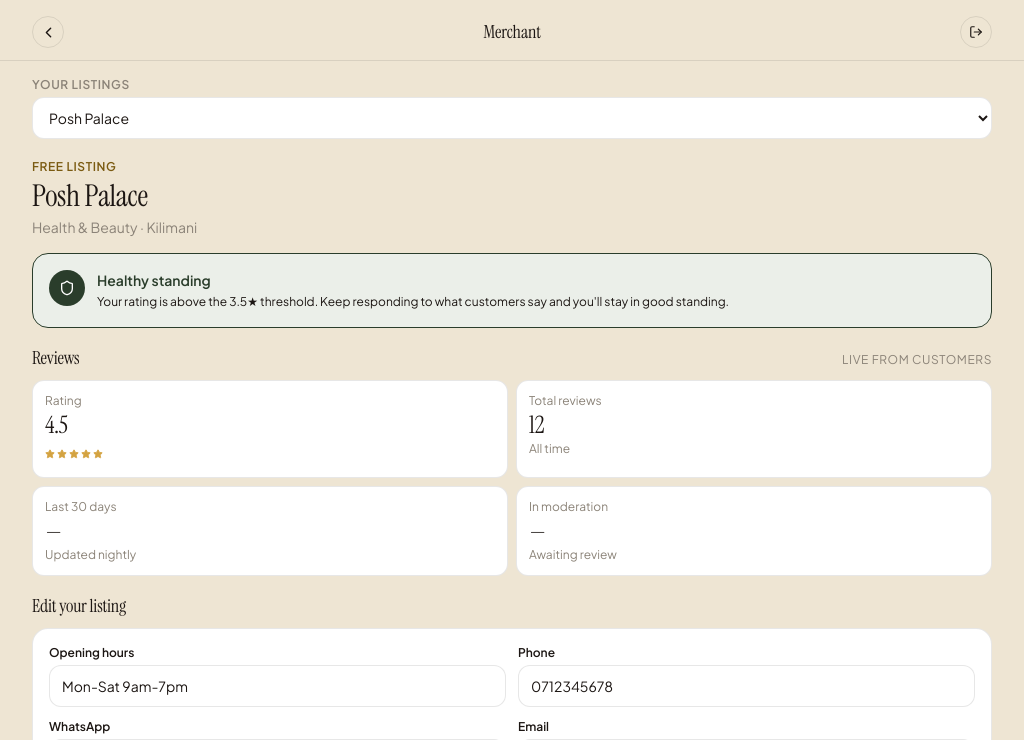
two active listings: switcher swaps the header
Expected: the heading "Posh Palace" is shown, top-left (32, 176), bottom-right (148, 215)
Select "Second Shop" in the dropdown labelled "Your listings": (512, 118) top-left (32, 97), bottom-right (992, 139)
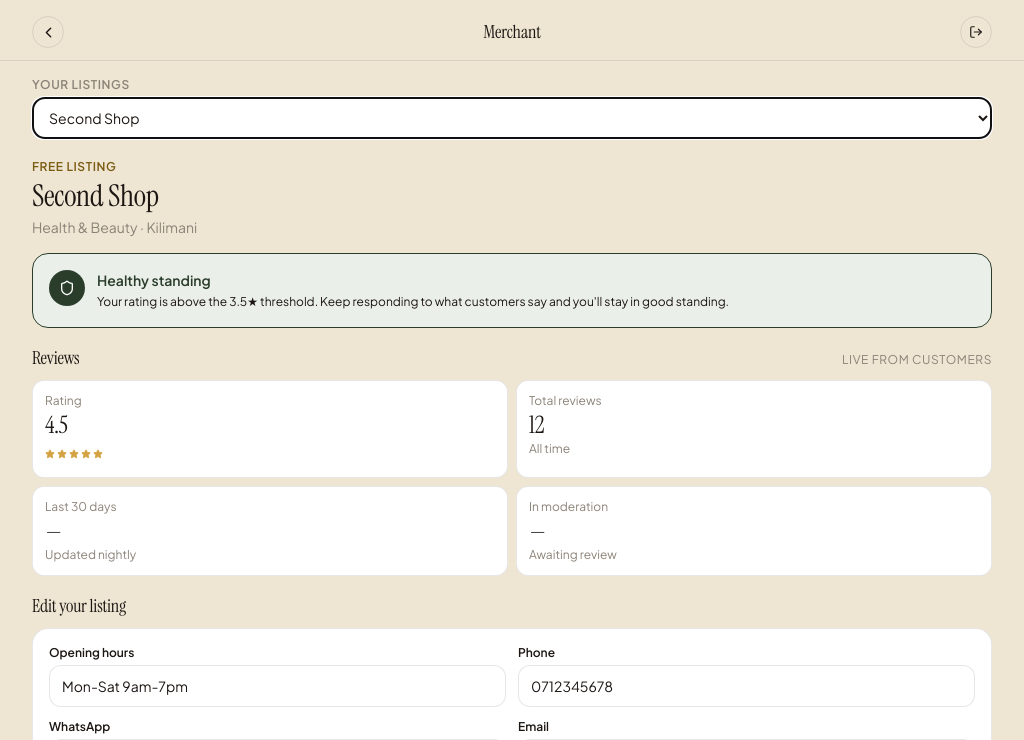
Expected: the heading "Second Shop" is shown, top-left (32, 176), bottom-right (159, 215)
